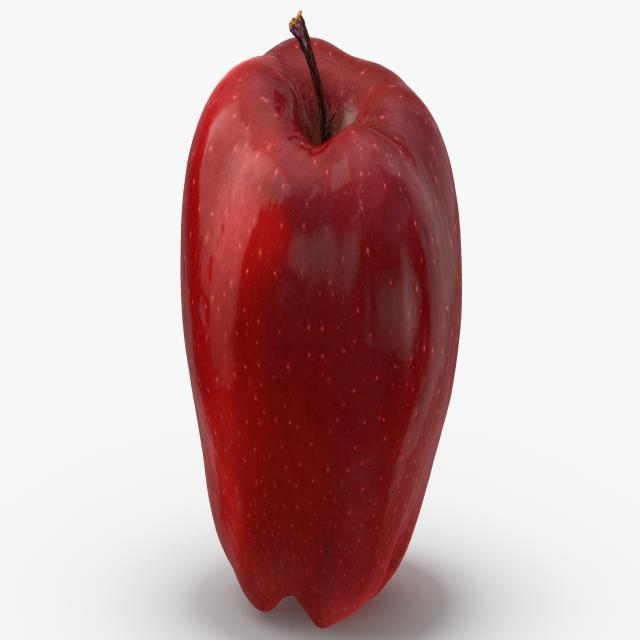Apple: (166, 6, 454, 632)
